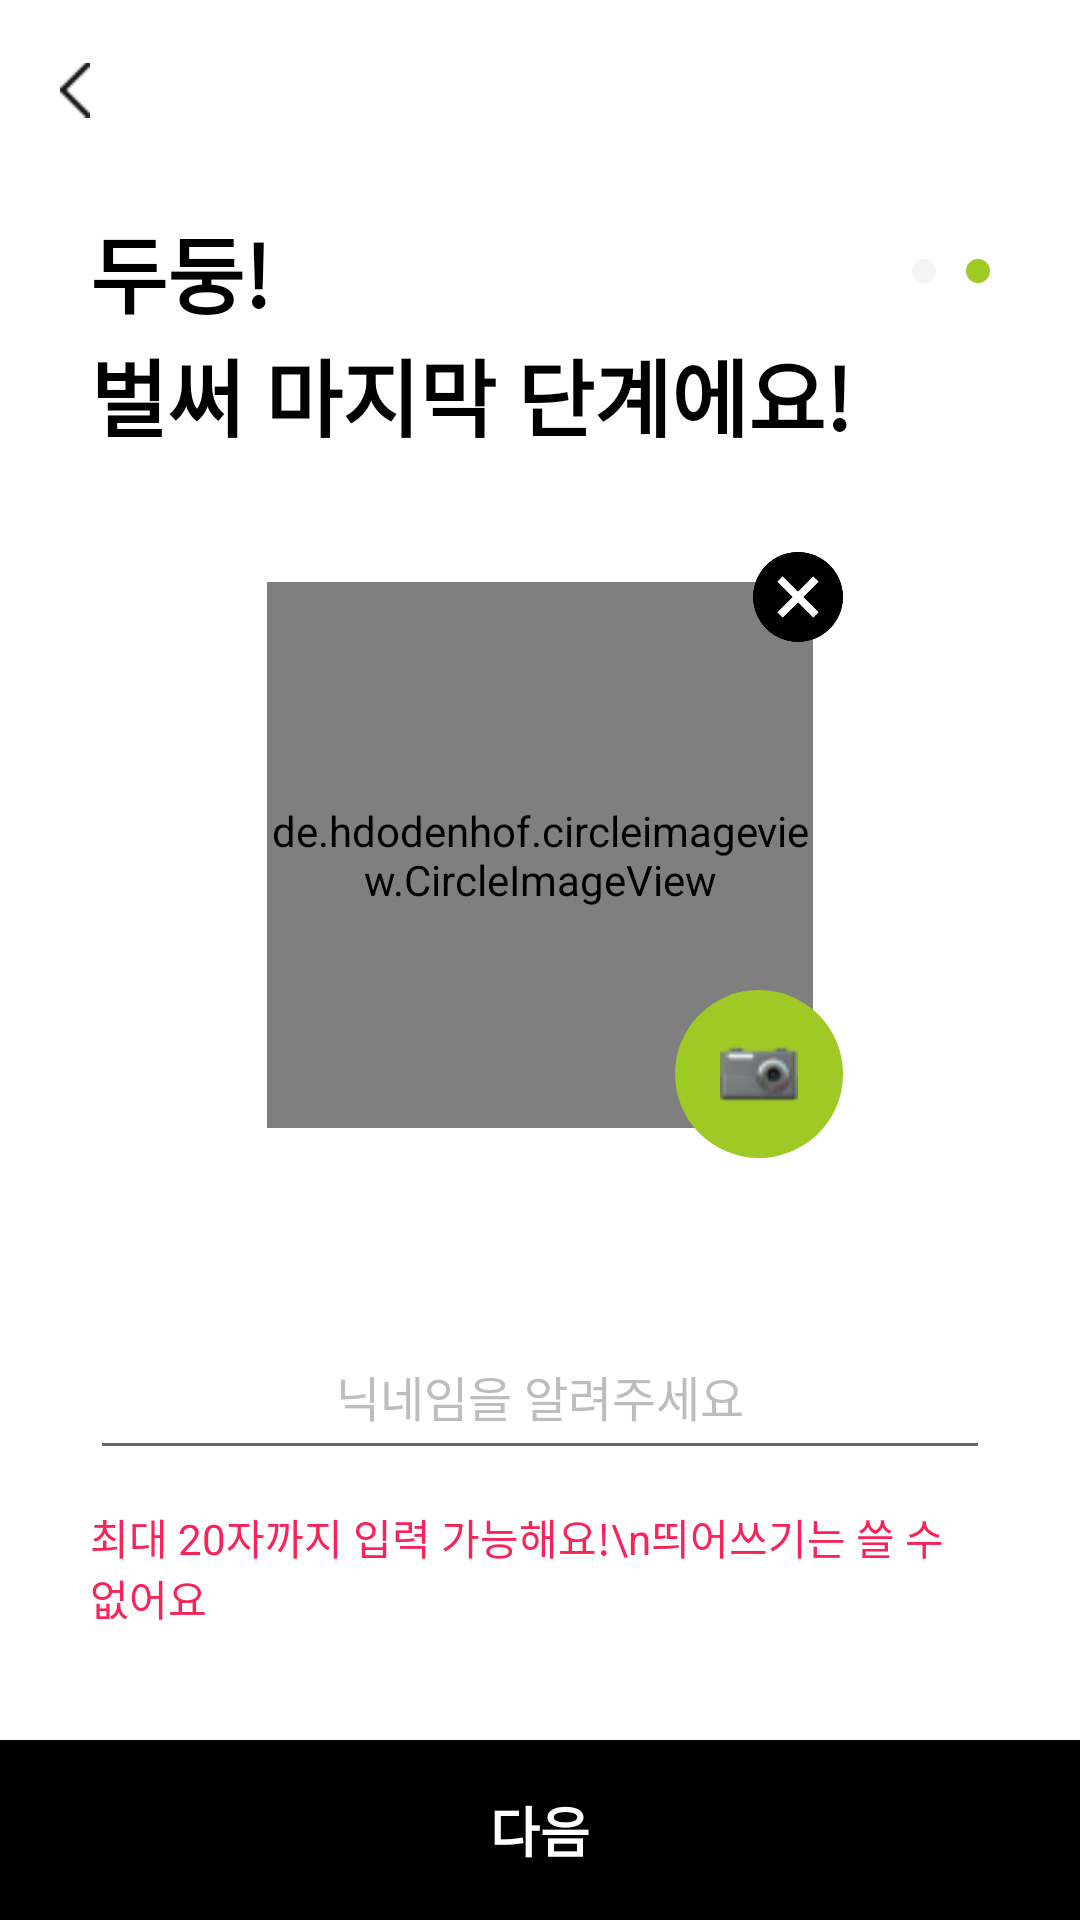

Locate icon controls on the screen. Image size 1080w x 1920h, boxes as rect(x1, y1, x2, y2).
back: rect(60, 63, 90, 118)
camera: rect(720, 1047, 798, 1101)
delete: rect(753, 552, 843, 642)
